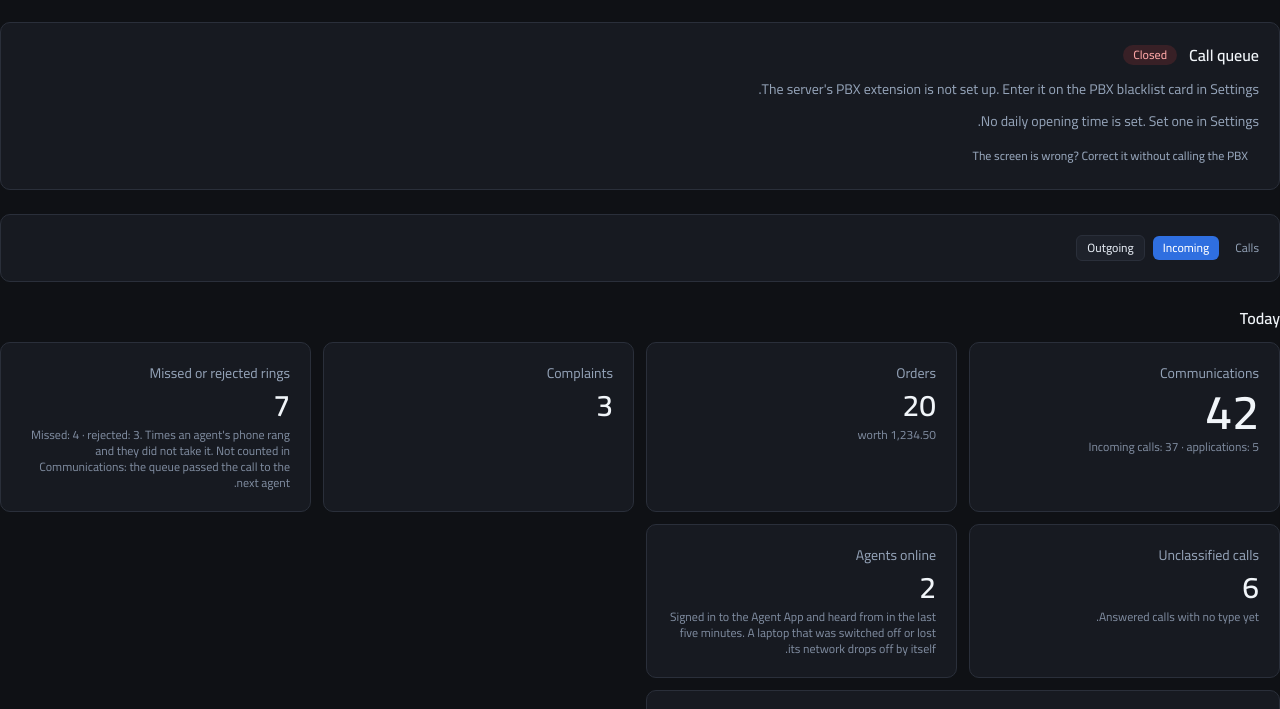
dashboard › shows today’s figures as the server counted them
Expected: the text "42" is shown, [1205, 366, 1259, 456]
Expected: the text "Incoming calls: 37 · applications: 5" is shown, [1088, 435, 1259, 458]
Note: Outgoing: its own block, and no rings, which are incoming by nature.
Click the button "Outgoing". click: (1110, 248)
box: [1076, 235, 1145, 261]
(page scrolled)
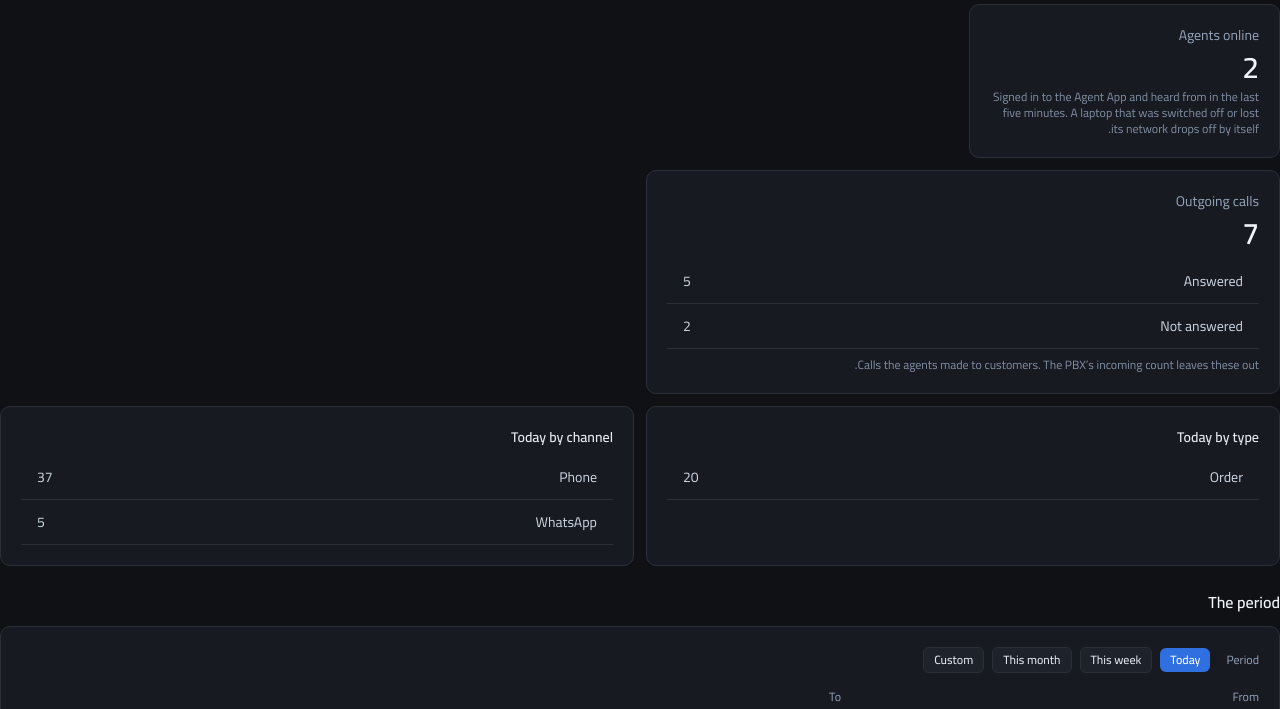
Expected: the text "7" is shown, [1242, 205, 1259, 261]
Expected: the text "Incoming calls" is gone
Expected: the text "Missed or rejected rings" is gone
